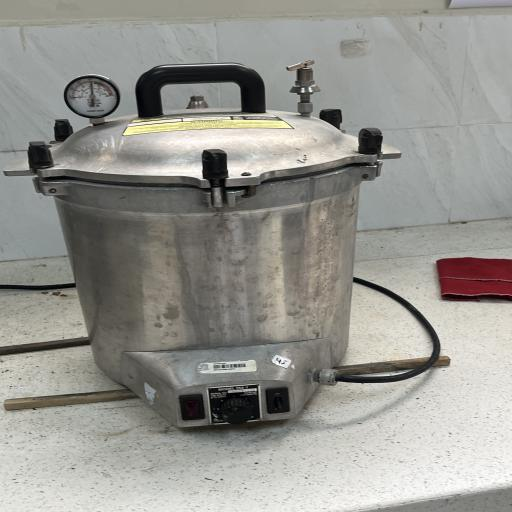Autoclave: (2, 54, 382, 440)
